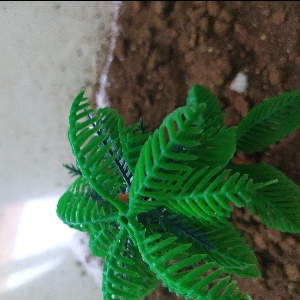plant: (43, 87, 300, 296)
